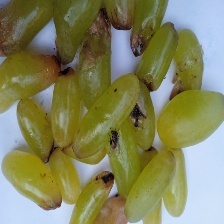grapes: (30, 50, 201, 204)
